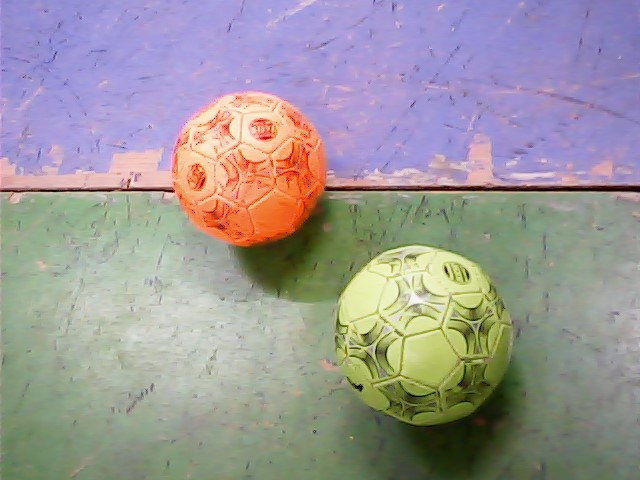Green_ball: (332, 246, 513, 425)
Orange_ball: (168, 86, 331, 248)
